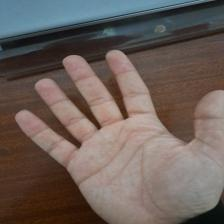five: (14, 51, 222, 215)
